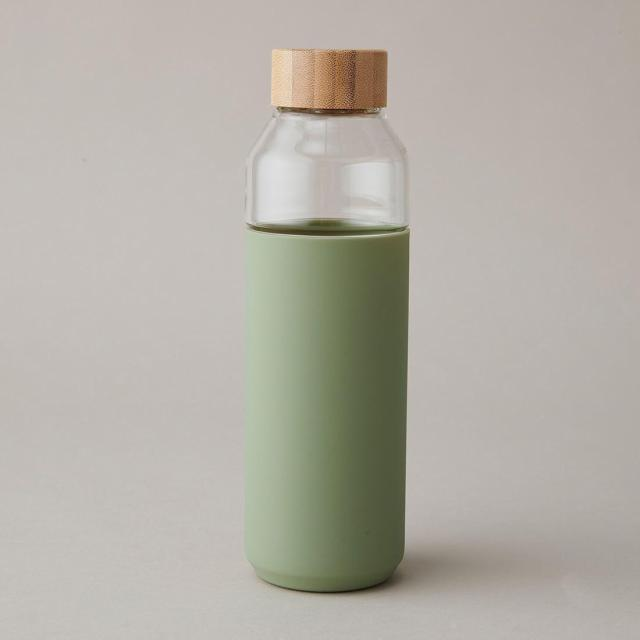gym bottle: (240, 42, 415, 597)
